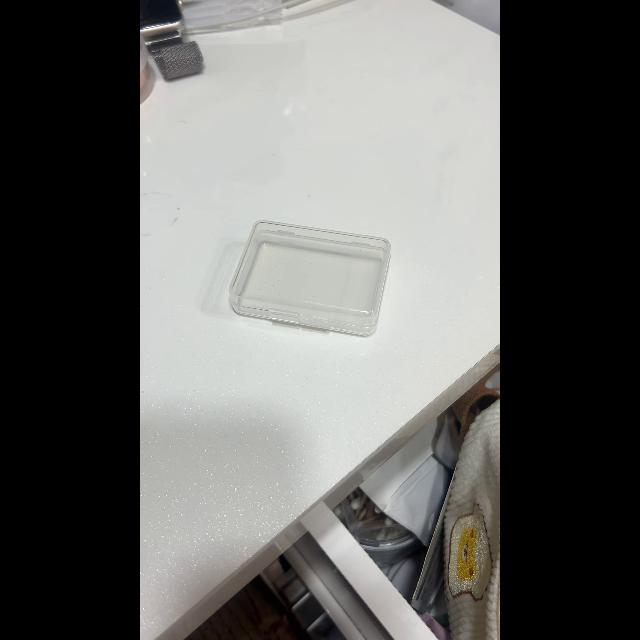clean: (232, 210, 392, 342)
